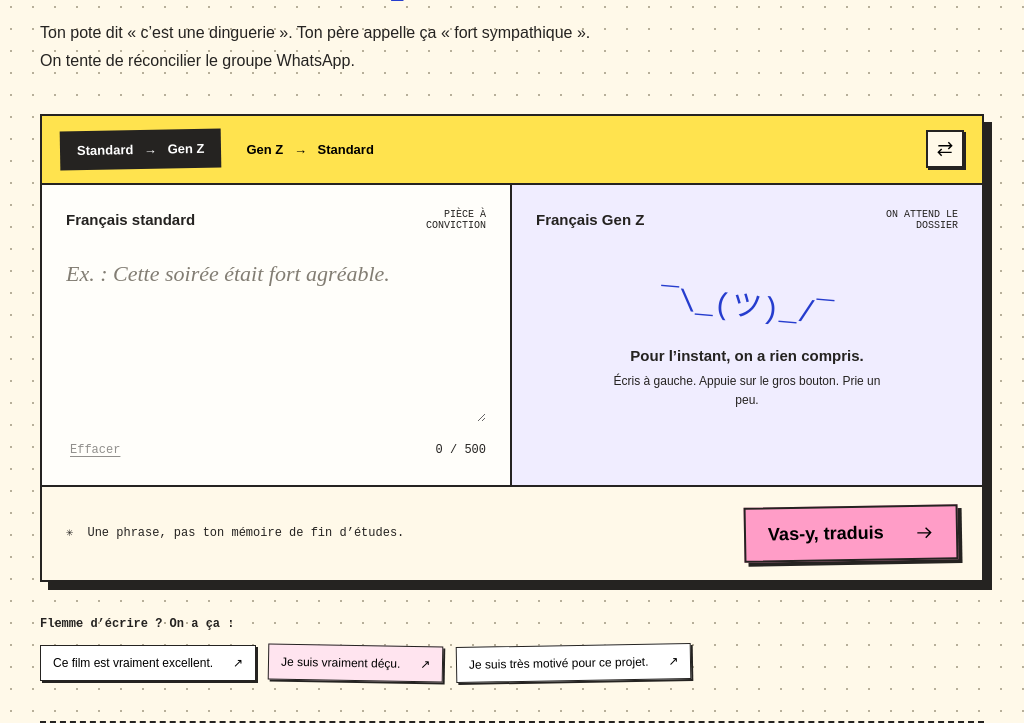
Test: ignore une réponse devenue obsolète après modification et bloque la double soumission
(page scrolled)
Type "Bonjour" into the text box labelled "Français standard" at (276, 339), box [66,257,486,422]
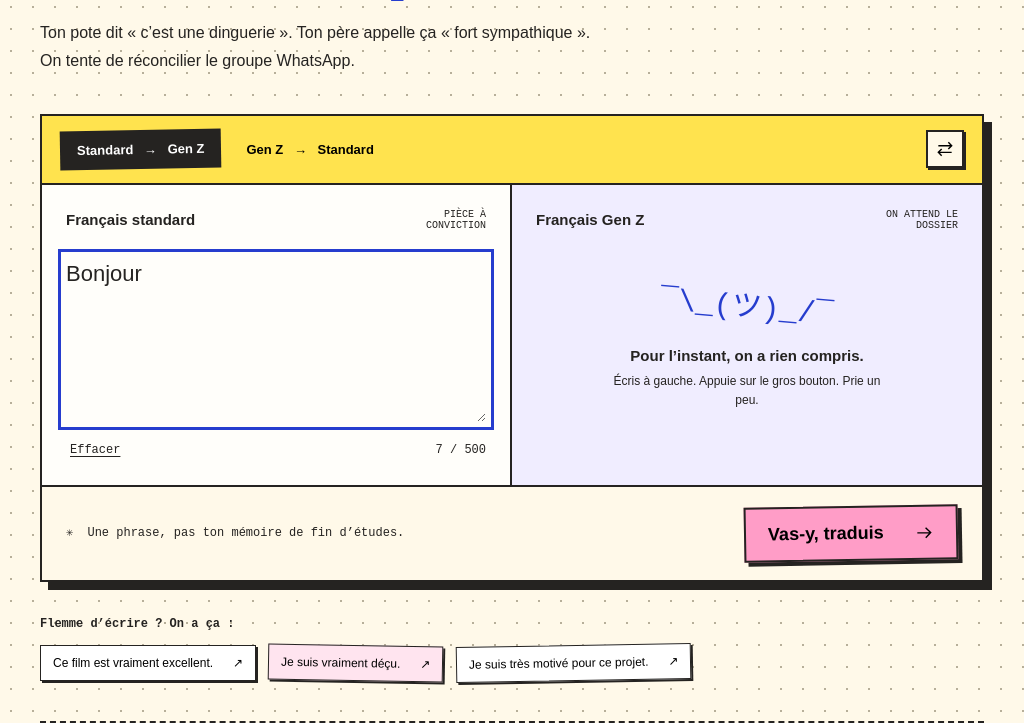
Click the button "Vas-y, traduis" at (851, 533), box [744,504,958,563]
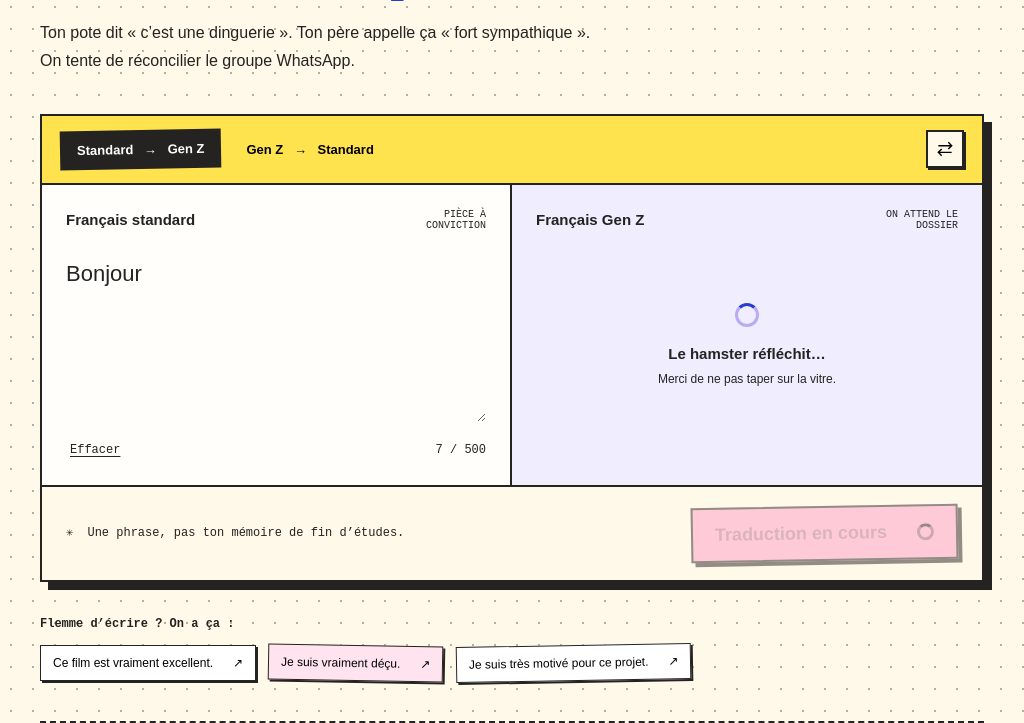
Expected: the button "Traduction en cours" is disabled, [690,503,958,563]
Type " !" into the text box labelled "Français standard" at (276, 339), box [66,257,486,422]
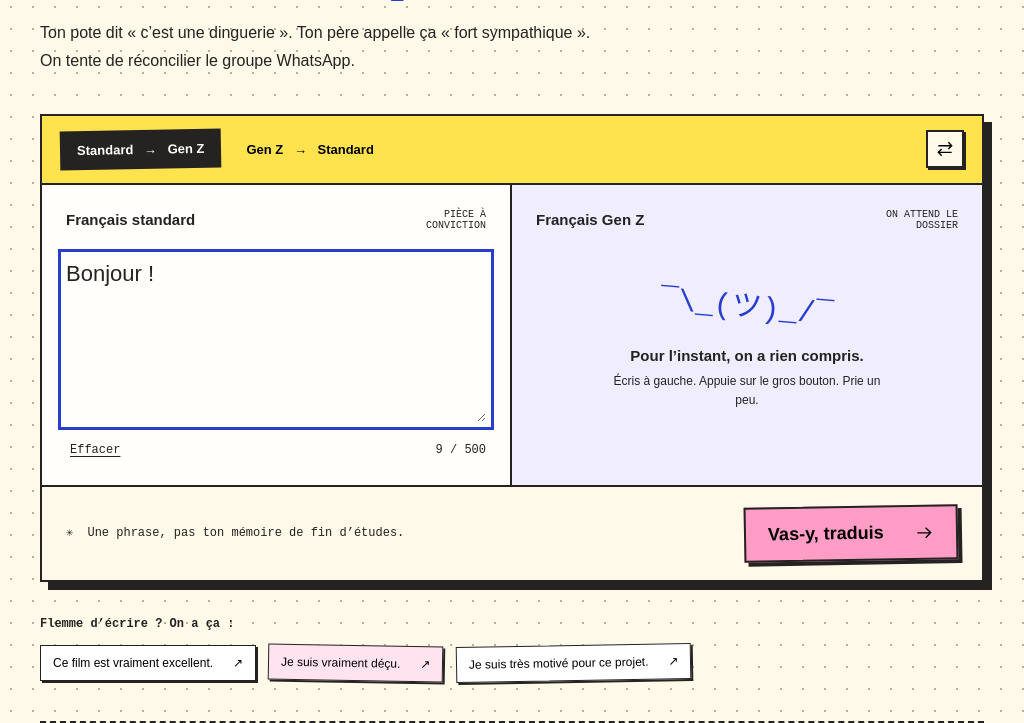
Expected: the button "Vas-y, traduis" is enabled, [744,504,958,563]
